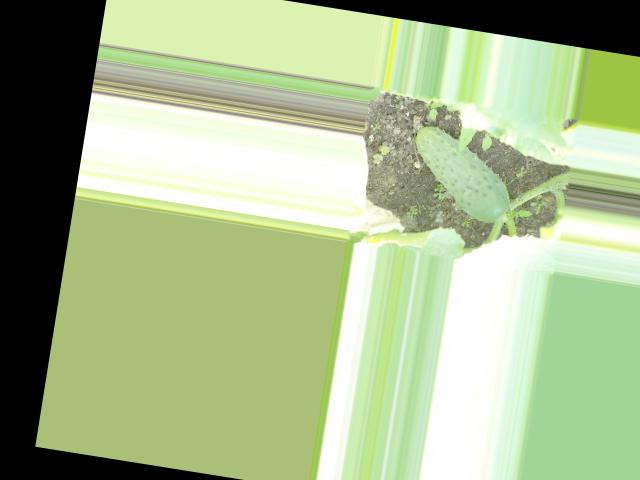cucumber: (404, 124, 521, 226)
